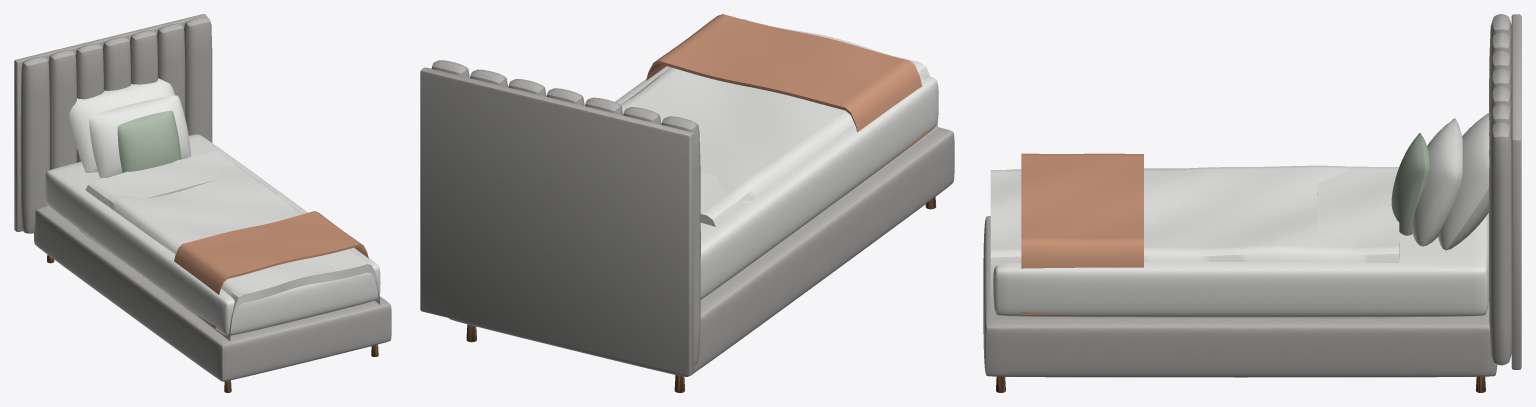
The model's file is cama-1plaza-tapizada-v2.gltf.
3 renders of one model, left to right at view 1: azimuth 30°, elevation 25°; view 2: azimuth 150°, elevation 25°; view 3: azimuth 270°, elevation 25°, orthographic. The views are drawn at different scales.
Parts seen in each view (by area): view 1: cama-1plaza-tapizada__f_lino_gris, cama-1plaza-tapizada__f_algodon, cama-1plaza-tapizada__f_colchon, cama-1plaza-tapizada__f_manta, cama-1plaza-tapizada__f_lino_salvia; view 2: cama-1plaza-tapizada__f_lino_gris, cama-1plaza-tapizada__f_algodon, cama-1plaza-tapizada__f_manta, cama-1plaza-tapizada__f_colchon; view 3: cama-1plaza-tapizada__f_lino_gris, cama-1plaza-tapizada__f_algodon, cama-1plaza-tapizada__f_colchon, cama-1plaza-tapizada__f_manta, cama-1plaza-tapizada__f_lino_salvia.
Part boxes in pixels (bbox=[...]): cama-1plaza-tapizada__f_lino_gris: bbox=[14, 14, 391, 381]; cama-1plaza-tapizada__f_algodon: bbox=[69, 78, 379, 340]; cama-1plaza-tapizada__f_colchon: bbox=[45, 134, 380, 335]; cama-1plaza-tapizada__f_manta: bbox=[174, 211, 368, 328]; cama-1plaza-tapizada__f_lino_salvia: bbox=[117, 110, 180, 172]; cama-1plaza-tapizada__f_lino_gris: bbox=[420, 60, 954, 376]; cama-1plaza-tapizada__f_algodon: bbox=[620, 19, 938, 283]; cama-1plaza-tapizada__f_manta: bbox=[646, 14, 927, 178]; cama-1plaza-tapizada__f_colchon: bbox=[615, 66, 938, 299]; cama-1plaza-tapizada__f_lino_gris: bbox=[983, 14, 1521, 377]; cama-1plaza-tapizada__f_algodon: bbox=[990, 113, 1489, 319]; cama-1plaza-tapizada__f_colchon: bbox=[993, 168, 1488, 317]; cama-1plaza-tapizada__f_manta: bbox=[1021, 153, 1143, 314]; cama-1plaza-tapizada__f_lino_salvia: bbox=[1391, 133, 1429, 235].
Size of the model in its own units: 1.17 by 1.17 by 2.11.
6 materials, 6 textured.
